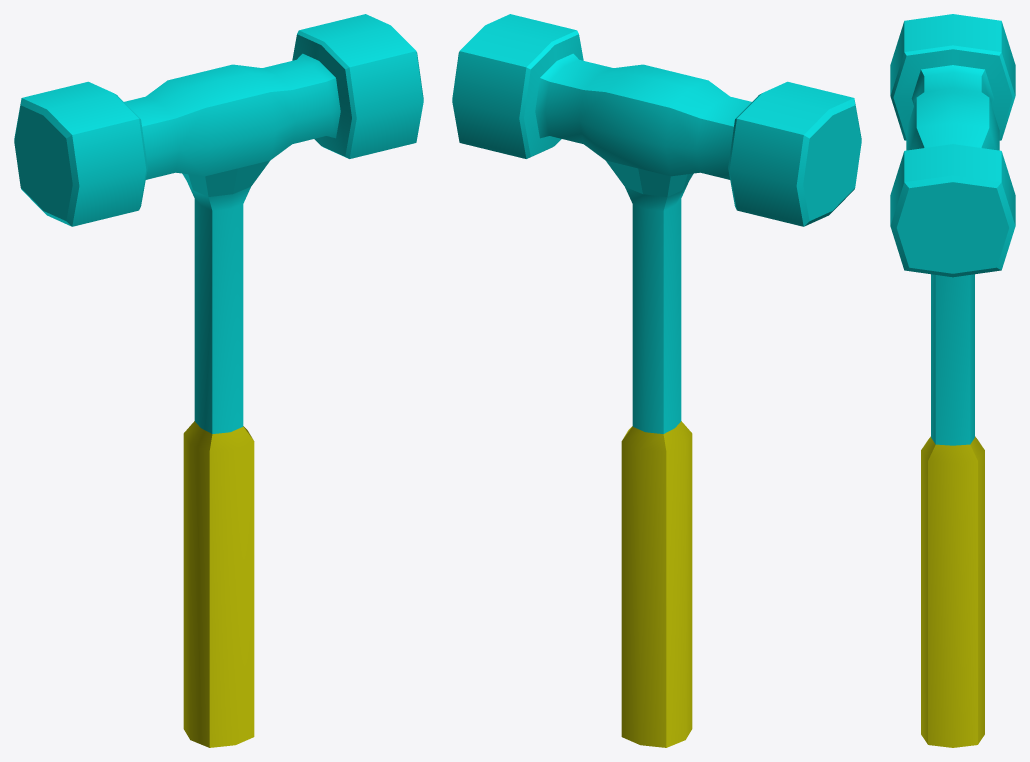
File: hammer_export.fbx
3 views of the same model, side by side, from view 1: azimuth 30°, elevation 25°; view 2: azimuth 150°, elevation 25°; view 3: azimuth 270°, elevation 25° (orthographic). The views are drawn at different scales.
Parts seen in each view (by area): view 1: HammerMesh; view 2: HammerMesh; view 3: HammerMesh.
Boxes of the visible parts, x1=… form: HammerMesh: x1=14, y1=14, x2=423, y2=747; HammerMesh: x1=452, y1=14, x2=861, y2=747; HammerMesh: x1=890, y1=14, x2=1015, y2=747.
Bounding box in the file's own units: 9.05 × 16.41 × 2.91.
